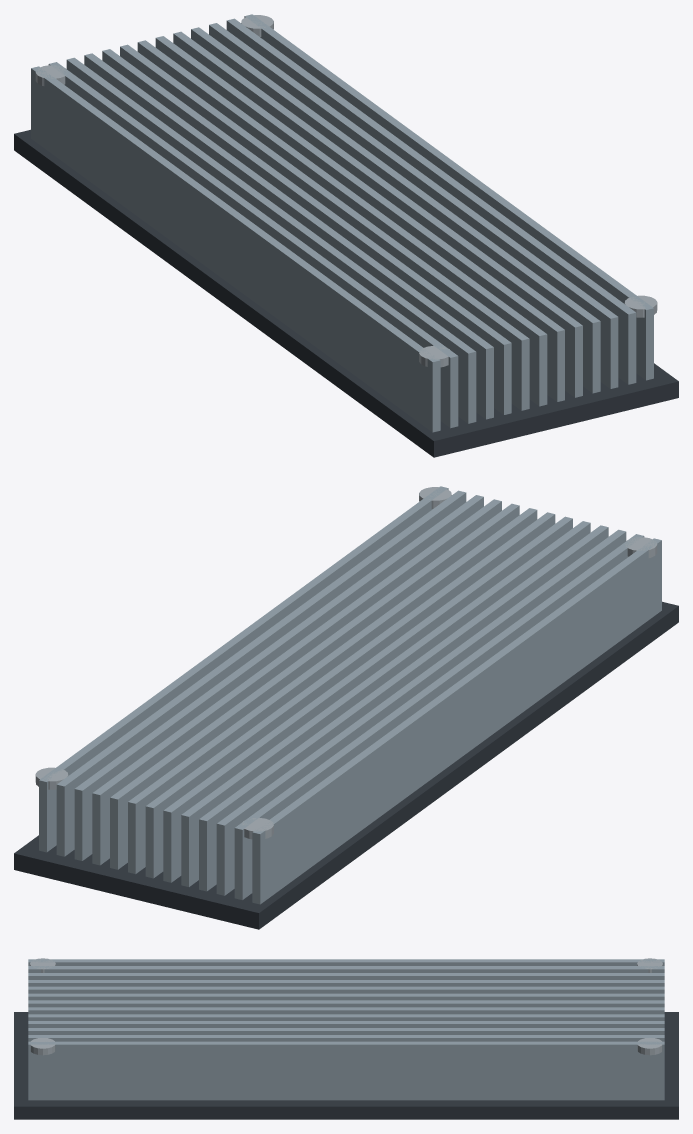
File: 135_L110_VRM_RemovableSpreader.fbx
The picture shows the model from 3 angles, top to bottom: view 1: azimuth 30°, elevation 25°; view 2: azimuth 150°, elevation 25°; view 3: azimuth 270°, elevation 25°; orthographic projection. The views are drawn at different scales.
Visible parts, largest first — view 1: L110_VRM_RemovableSpreader_ALUMINUM, L110_VRM_RemovableSpreader_DARK_METAL, L110_VRM_RemovableSpreader_SOLDER; view 2: L110_VRM_RemovableSpreader_ALUMINUM, L110_VRM_RemovableSpreader_DARK_METAL, L110_VRM_RemovableSpreader_SOLDER; view 3: L110_VRM_RemovableSpreader_ALUMINUM, L110_VRM_RemovableSpreader_DARK_METAL, L110_VRM_RemovableSpreader_SOLDER.
Boxes of the visible parts, x1,y1,x2,y2 form: L110_VRM_RemovableSpreader_ALUMINUM: (31, 14, 653, 432); L110_VRM_RemovableSpreader_DARK_METAL: (14, 129, 678, 457); L110_VRM_RemovableSpreader_SOLDER: (35, 15, 657, 367); L110_VRM_RemovableSpreader_ALUMINUM: (39, 486, 661, 904); L110_VRM_RemovableSpreader_DARK_METAL: (14, 601, 678, 929); L110_VRM_RemovableSpreader_SOLDER: (35, 487, 657, 839); L110_VRM_RemovableSpreader_ALUMINUM: (28, 959, 664, 1100); L110_VRM_RemovableSpreader_DARK_METAL: (14, 1012, 678, 1119); L110_VRM_RemovableSpreader_SOLDER: (30, 958, 662, 1055).
Bounding box in the file's own units: 31 × 92 × 10.5.
